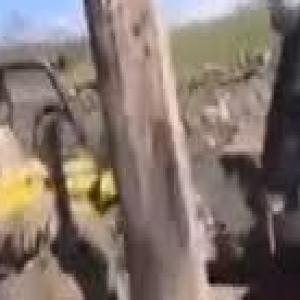severe: (241, 0, 300, 290)
